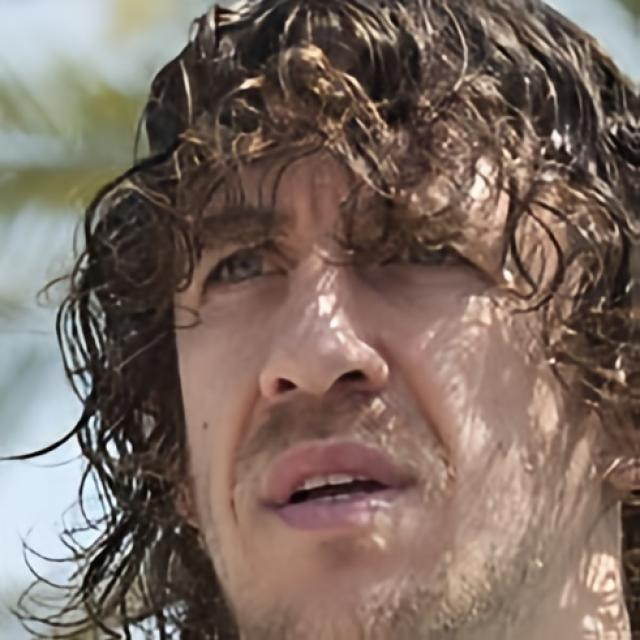disgust: (170, 108, 606, 640)
